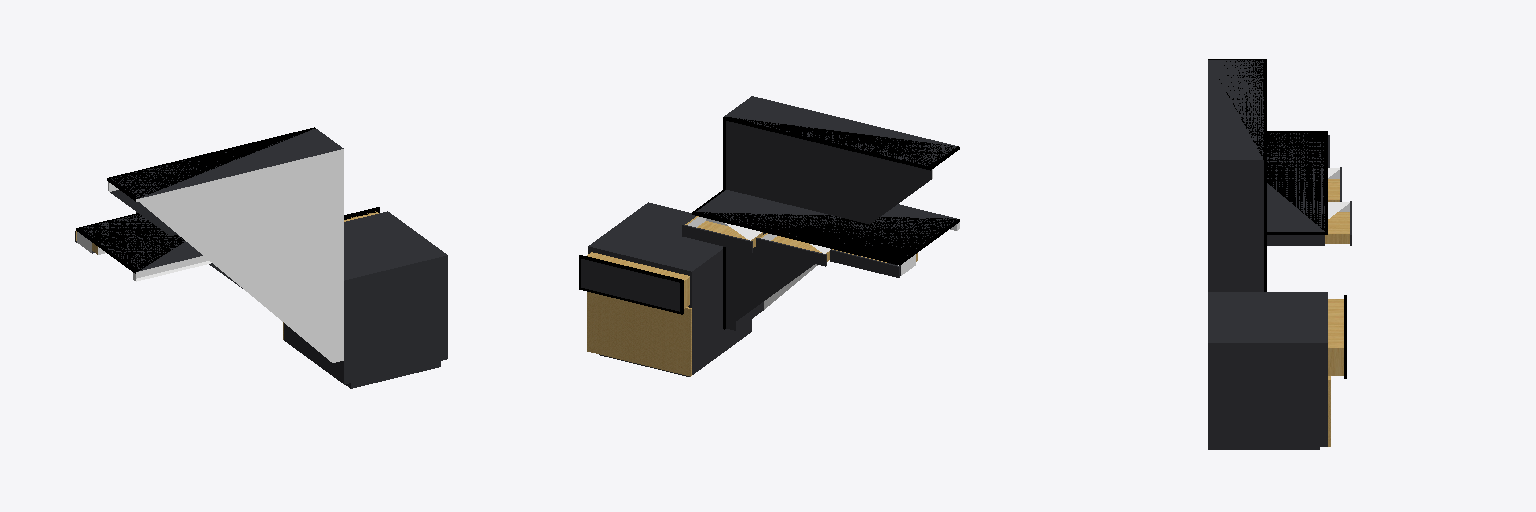
The picture shows the model from 3 angles: view 1: azimuth 30°, elevation 25°; view 2: azimuth 150°, elevation 25°; view 3: azimuth 270°, elevation 25°; orthographic projection.
Parts seen in each view (by area): view 1: bordes, escritorio1, escritorio:Mesh7Group5Group1Model; view 2: bordes, escritorio:Mesh7Group5Group1Model, escritorio1, escritorio:Mesh2Group3Group1Model, escritorio:Mesh3Group4Group1Model, escritorio:Mesh6Group8Group5Group1Model, escritorio:Mesh4Group6Group5Group1Model, escritorio:Mesh5Group7Group5Group1Model; view 3: escritorio1, bordes, escritorio:Mesh7Group5Group1Model, escritorio:Mesh3Group4Group1Model, escritorio:Mesh6Group8Group5Group1Model.
Part boxes in pixels (x1,y1,x2,y2): bordes: (107,127,343,362); escritorio1: (284,211,447,388); escritorio:Mesh7Group5Group1Model: (76,213,341,281); bordes: (723,96,959,330); escritorio:Mesh7Group5Group1Model: (692,190,959,275); escritorio1: (588,202,751,376); escritorio:Mesh2Group3Group1Model: (587,292,691,376); escritorio:Mesh3Group4Group1Model: (579,252,689,314); escritorio:Mesh6Group8Group5Group1Model: (682,216,762,252); escritorio:Mesh4Group6Group5Group1Model: (756,233,832,266); escritorio:Mesh5Group7Group5Group1Model: (830,249,917,277); escritorio1: (1208,292,1327,449); bordes: (1208,59,1266,291); escritorio:Mesh7Group5Group1Model: (1267,131,1327,245); escritorio:Mesh3Group4Group1Model: (1328,295,1346,378); escritorio:Mesh6Group8Group5Group1Model: (1325,201,1351,245).
Bounding box in the file's own units: 1.35 × 1 × 0.541.
4 materials, 2 textured.